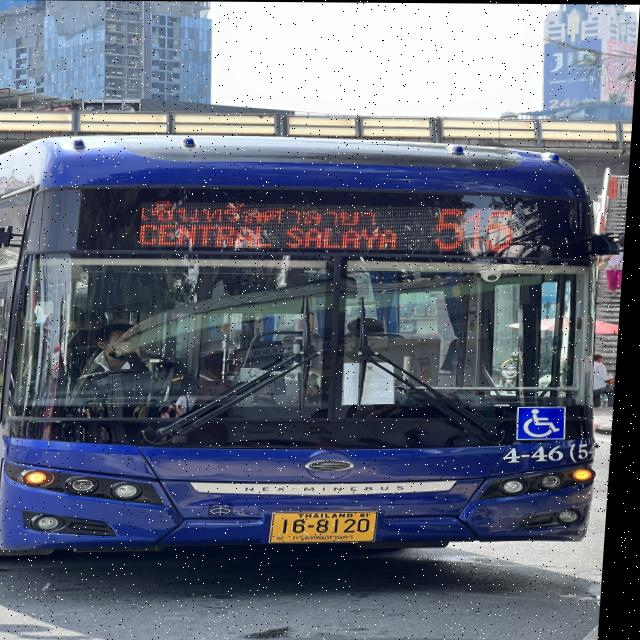Bus Line Number: (413, 196, 534, 255)
Bus Side Number: (505, 444, 608, 464)
Destination Sign: (129, 194, 409, 252)
TSB-Bus: (0, 138, 603, 560)
